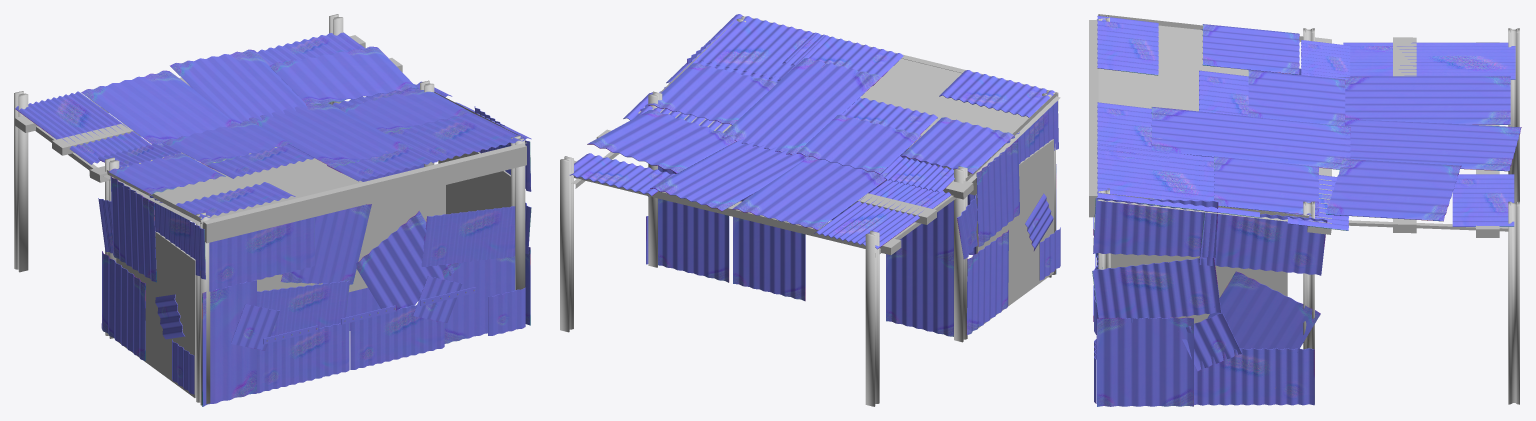
The model's file is SlumHouse2.fbx.
3 renders of one model, left to right at view 1: azimuth 30°, elevation 25°; view 2: azimuth 150°, elevation 25°; view 3: azimuth 270°, elevation 25°, orthographic. The views are drawn at different scales.
Visible parts, largest first — view 1: Support_5, Tin_sheet_4__14_, Tin_sheet_4__15_, Tin_sheet_4__12_, Tin_sheet_4__16_, Tin_sheet_3__3_, Support_4__4_, Tin_sheet_1, Tin_sheet_4__2_, Tin_sheet_3__4_, Tin_sheet_3, Support_4__5_ (+35 smaller); view 2: Tin_sheet_4__12_, Tin_sheet_4__14_, Tin_sheet_4__15_, Support_4__5_, Tin_sheet_4__17_, Tin_sheet_4__16_, Tin_sheet_4__19_, Tin_sheet_3__13_, Tin_sheet_4, Support_4__4_, Tin_sheet_4__13_, Tin_sheet_4__11_ (+24 smaller); view 3: Tin_sheet_4__12_, Tin_sheet_4__5_, Tin_sheet_4__14_, Tin_sheet_4__15_, Tin_sheet_4__16_, Tin_sheet_3__5_, Tin_sheet_3__6_, Tin_sheet_3__8_, Tin_sheet_3__7_, Support_4__5_, Tin_sheet_3__13_, Tin_sheet_4__6_ (+23 smaller).
Part boxes in pixels (x1,y1,x2,y2): Support_5: [202, 143, 526, 243]; Tin_sheet_4__14_: [81, 70, 235, 146]; Tin_sheet_4__15_: [170, 49, 307, 124]; Tin_sheet_4__12_: [249, 101, 412, 168]; Tin_sheet_4__16_: [269, 46, 417, 105]; Tin_sheet_3__3_: [209, 217, 314, 291]; Support_4__4_: [116, 231, 196, 397]; Tin_sheet_1: [202, 280, 256, 406]; Tin_sheet_4__2_: [356, 211, 454, 309]; Tin_sheet_3__4_: [421, 206, 515, 266]; Tin_sheet_3: [257, 323, 349, 393]; Support_4__5_: [125, 147, 362, 223]; Tin_sheet_4__12_: [722, 58, 881, 154]; Tin_sheet_4__14_: [732, 156, 887, 230]; Tin_sheet_4__15_: [650, 139, 809, 211]; Support_4__5_: [860, 58, 1056, 166]; Tin_sheet_4__17_: [886, 248, 953, 336]; Tin_sheet_4__16_: [587, 110, 736, 173]; Tin_sheet_4__19_: [733, 217, 805, 301]; Tin_sheet_3__13_: [694, 14, 829, 80]; Tin_sheet_4: [658, 198, 729, 282]; Support_4__4_: [976, 139, 1053, 328]; Tin_sheet_4__13_: [648, 63, 777, 125]; Tin_sheet_4__11_: [796, 114, 921, 174]; Tin_sheet_4__12_: [1151, 107, 1350, 169]; Tin_sheet_4__5_: [1097, 317, 1193, 406]; Tin_sheet_4__14_: [1339, 76, 1510, 124]; Tin_sheet_4__15_: [1341, 119, 1521, 171]; Tin_sheet_4__16_: [1326, 159, 1461, 221]; Tin_sheet_3__5_: [1092, 257, 1221, 322]; Tin_sheet_3__6_: [1194, 348, 1314, 405]; Tin_sheet_3__8_: [1093, 198, 1218, 257]; Tin_sheet_3__7_: [1199, 211, 1327, 275]; Support_4__5_: [1097, 19, 1248, 111]; Tin_sheet_3__13_: [1097, 143, 1204, 210]; Tin_sheet_4__6_: [1208, 271, 1320, 388].
Bounding box in the file's own units: 218 × 115 × 211.
